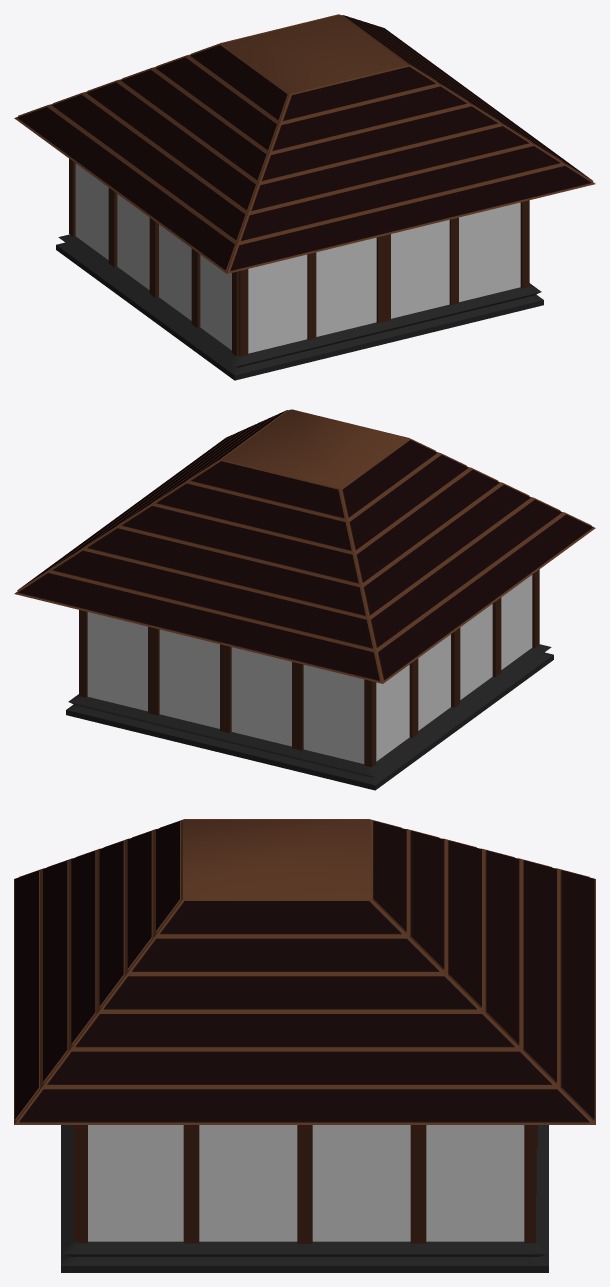
The model's file is Choza_1.obj.
3 renders of one model, top to bottom at view 1: azimuth 30°, elevation 25°; view 2: azimuth 150°, elevation 25°; view 3: azimuth 270°, elevation 25°, orthographic. The views are drawn at different scales.
Visible parts, largest first — view 1: Choza_1; view 2: Choza_1; view 3: Choza_1.
Boxes of the visible parts, x1,y1,x2,y2 form: Choza_1: [14, 14, 595, 380]; Choza_1: [14, 409, 595, 790]; Choza_1: [14, 819, 595, 1272].
Size of the model in its own units: 18.78 by 11.17 by 18.78.
